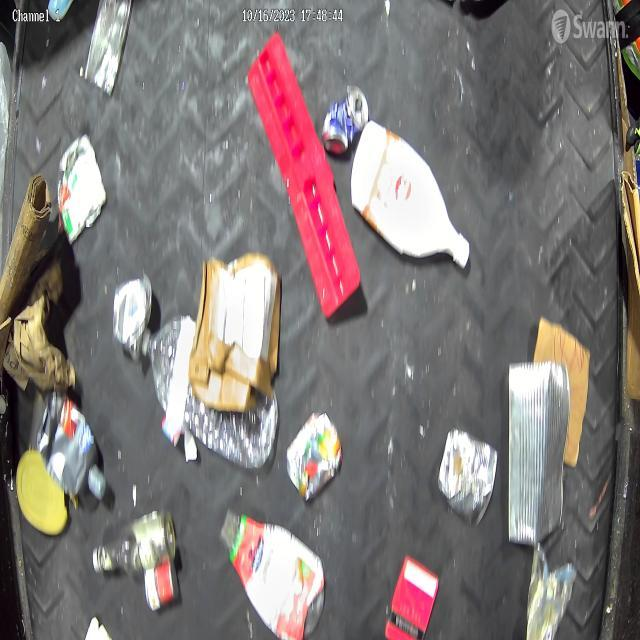can: (438, 426, 496, 520), (60, 129, 105, 246), (320, 83, 370, 157)
plastic_bottle: (140, 321, 278, 454)
